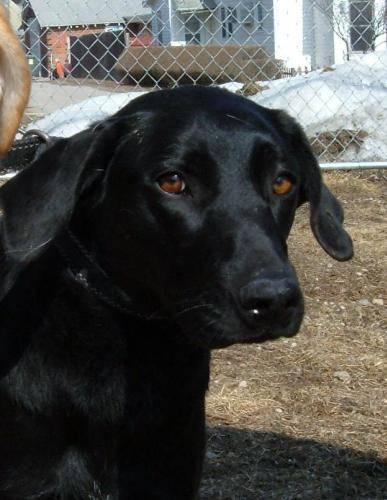dog: (0, 86, 353, 487)
